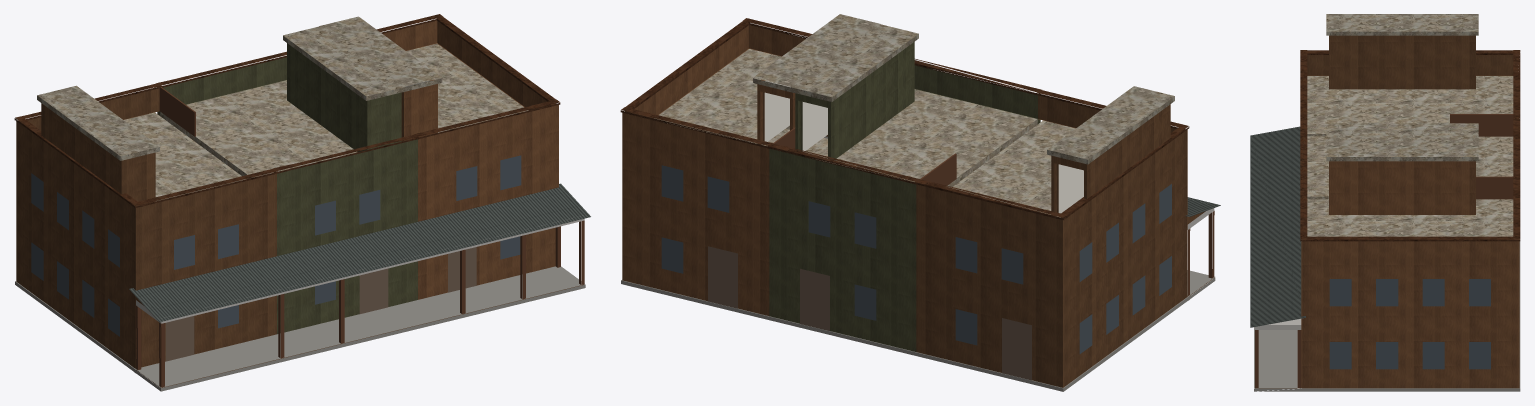
The model's file is rw-mill-row.zfix-v22.lod1.glb.
3 views of the same model, side by side, from view 1: azimuth 30°, elevation 25°; view 2: azimuth 150°, elevation 25°; view 3: azimuth 270°, elevation 25° (orthographic). The views are drawn at different scales.
Visible parts, largest first — view 1: rw-mill-row; view 2: rw-mill-row; view 3: rw-mill-row.
Part boxes in pixels (box(x1,y1,x2,y2)): rw-mill-row: box(14, 14, 590, 391); rw-mill-row: box(620, 14, 1220, 391); rw-mill-row: box(1250, 14, 1520, 391).
Bounding box in the file's own units: 19.6 × 8.98 × 11.65.
4 materials, 3 textured.
